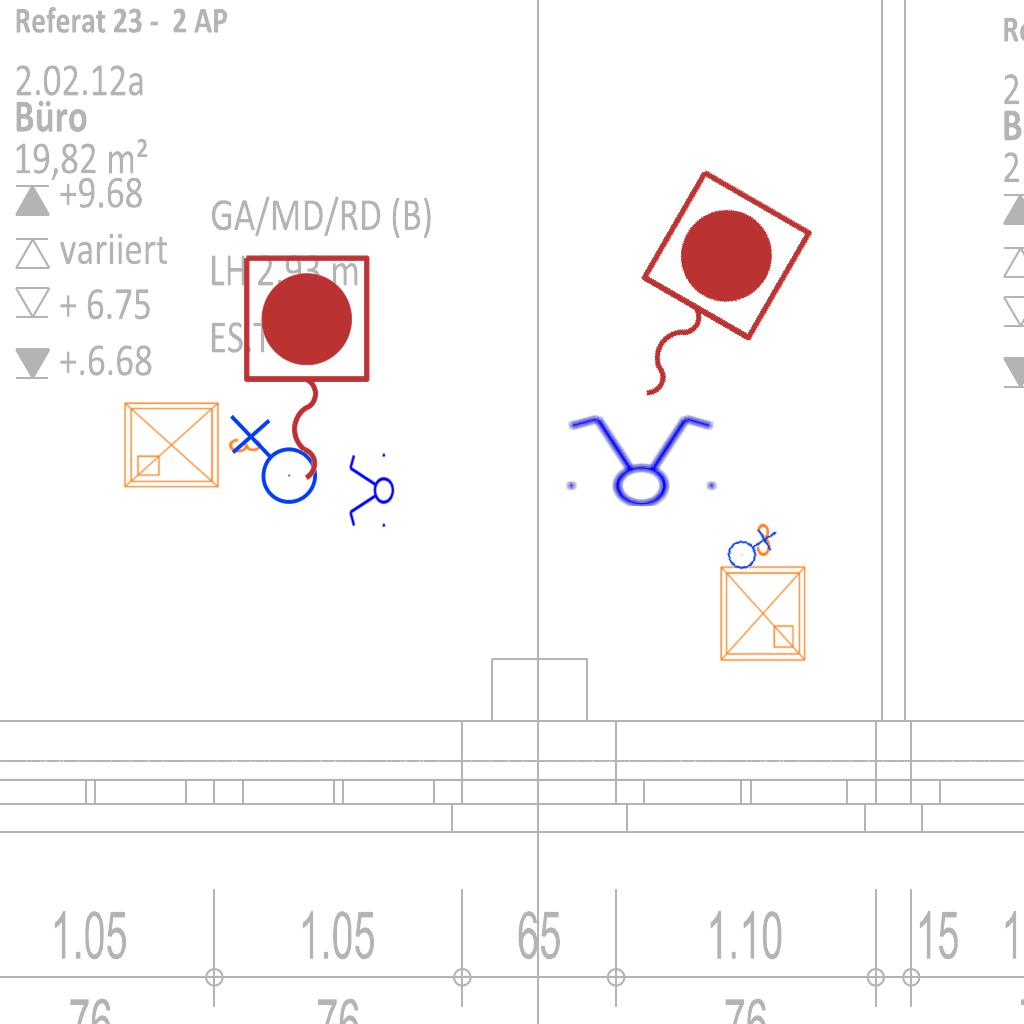Einbaudownlights_LED_Konferenzraeume: (117, 391, 267, 495), (709, 518, 813, 668)
Elektroanschluss_allgemein_230V_Geraeteanschlussdose_230V: (225, 414, 319, 513), (720, 519, 779, 576)
Serienschalter: (556, 412, 724, 508), (347, 449, 395, 533)
Zugtaster: (576, 156, 824, 440), (233, 247, 377, 491)
